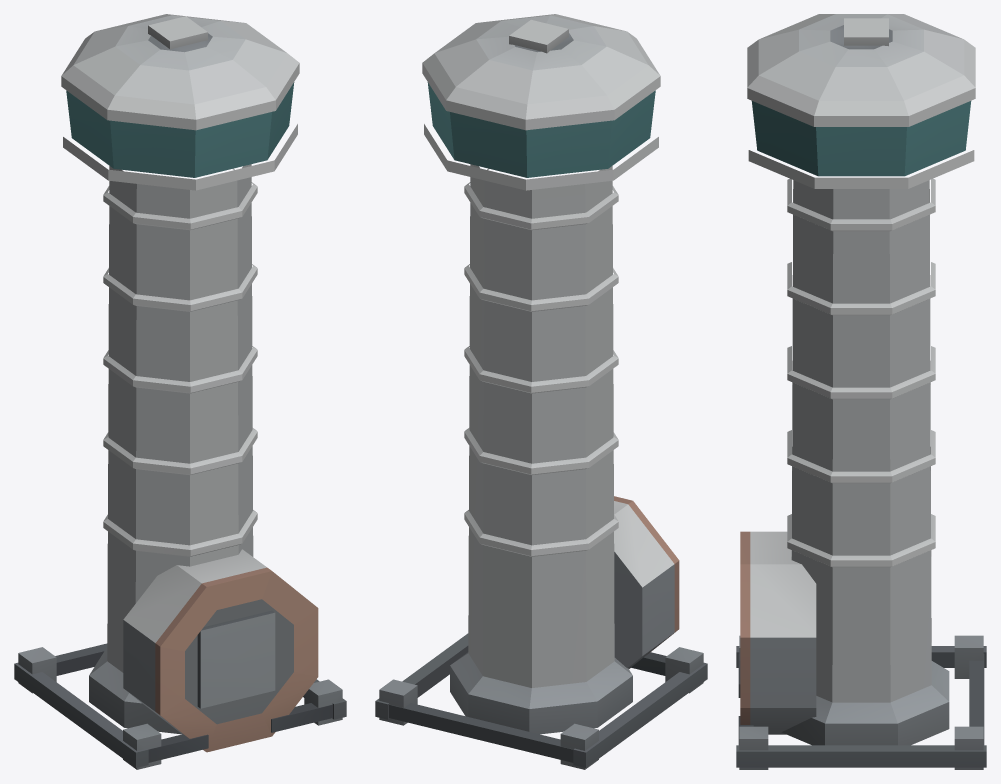
Rendered from otower.lod2.glb.
The picture shows the model from 3 angles, left to right: view 1: azimuth 30°, elevation 25°; view 2: azimuth 150°, elevation 25°; view 3: azimuth 270°, elevation 25°; orthographic projection. The views are drawn at different scales.
Bounding box in the file's own units: 5 × 15.2 × 5.
